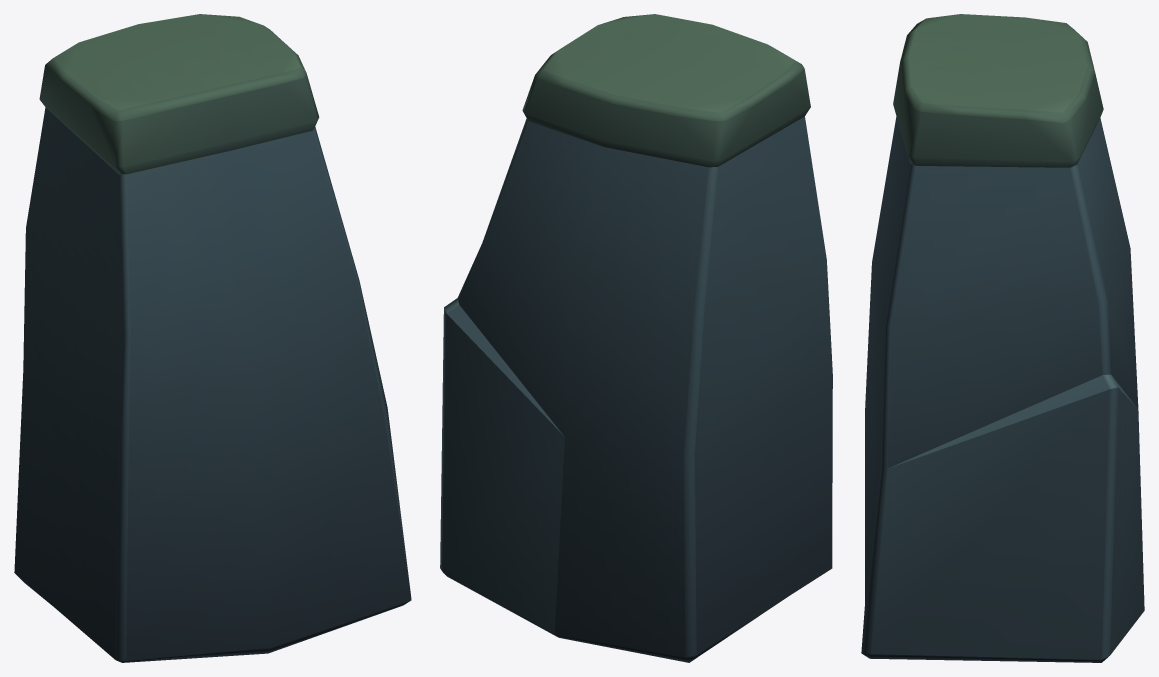
Rendered from rock_large_grass_08.fbx.
3 views of the same model, side by side, from view 1: azimuth 30°, elevation 25°; view 2: azimuth 150°, elevation 25°; view 3: azimuth 270°, elevation 25° (orthographic). The views are drawn at different scales.
Visible parts, largest first — view 1: rock_large_grass_08; view 2: rock_large_grass_08; view 3: rock_large_grass_08.
Part boxes in pixels (x1,y1,x2,y2): rock_large_grass_08: [14, 14, 411, 662]; rock_large_grass_08: [440, 14, 832, 662]; rock_large_grass_08: [861, 14, 1144, 662].
Size of the model in its own units: 954 by 1713 by 810.
